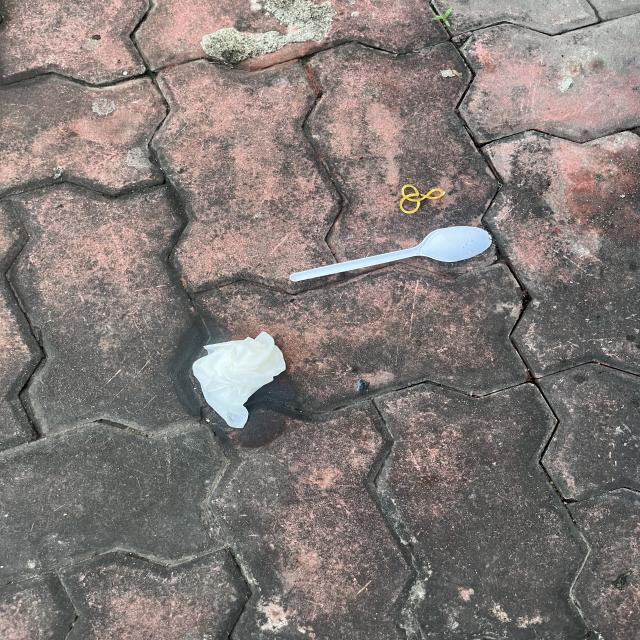napkin: (191, 331, 288, 430)
plastic utensil: (288, 225, 492, 283)
